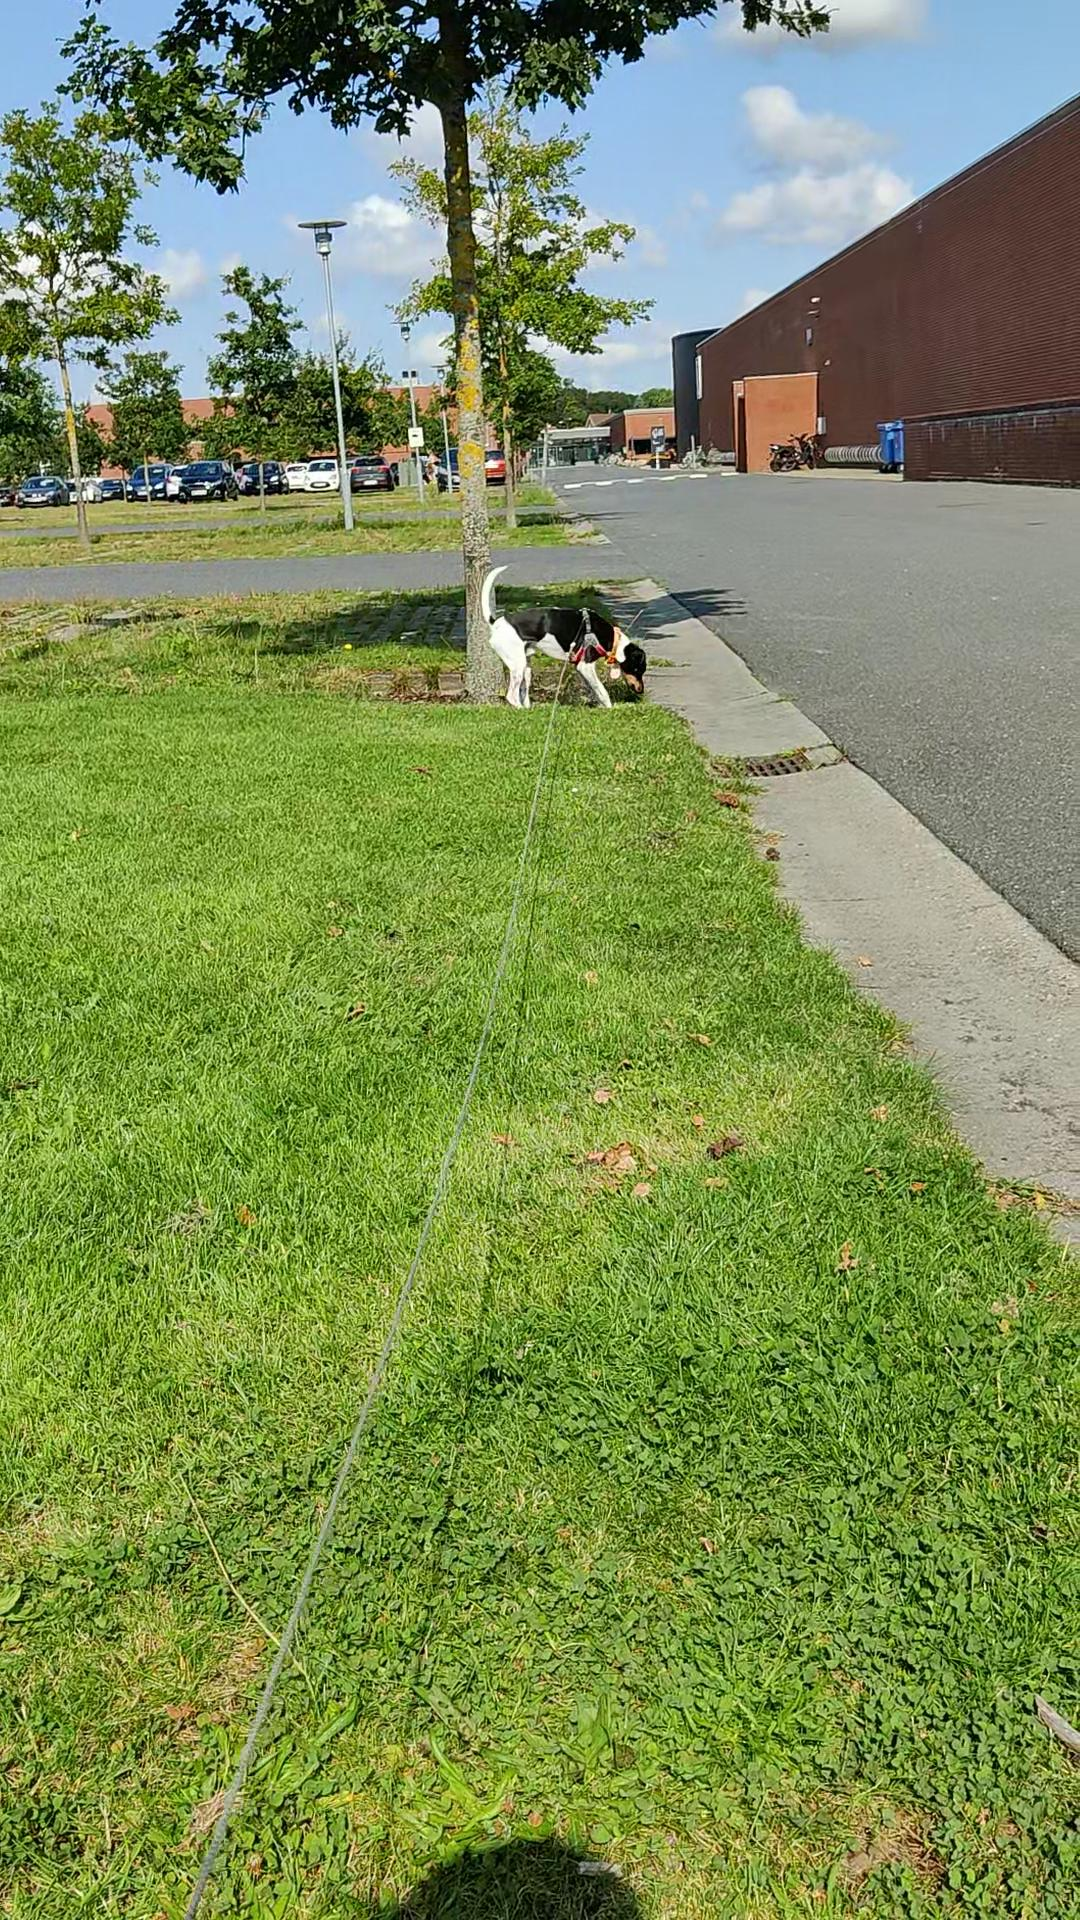Dog: (476, 558, 662, 720)
